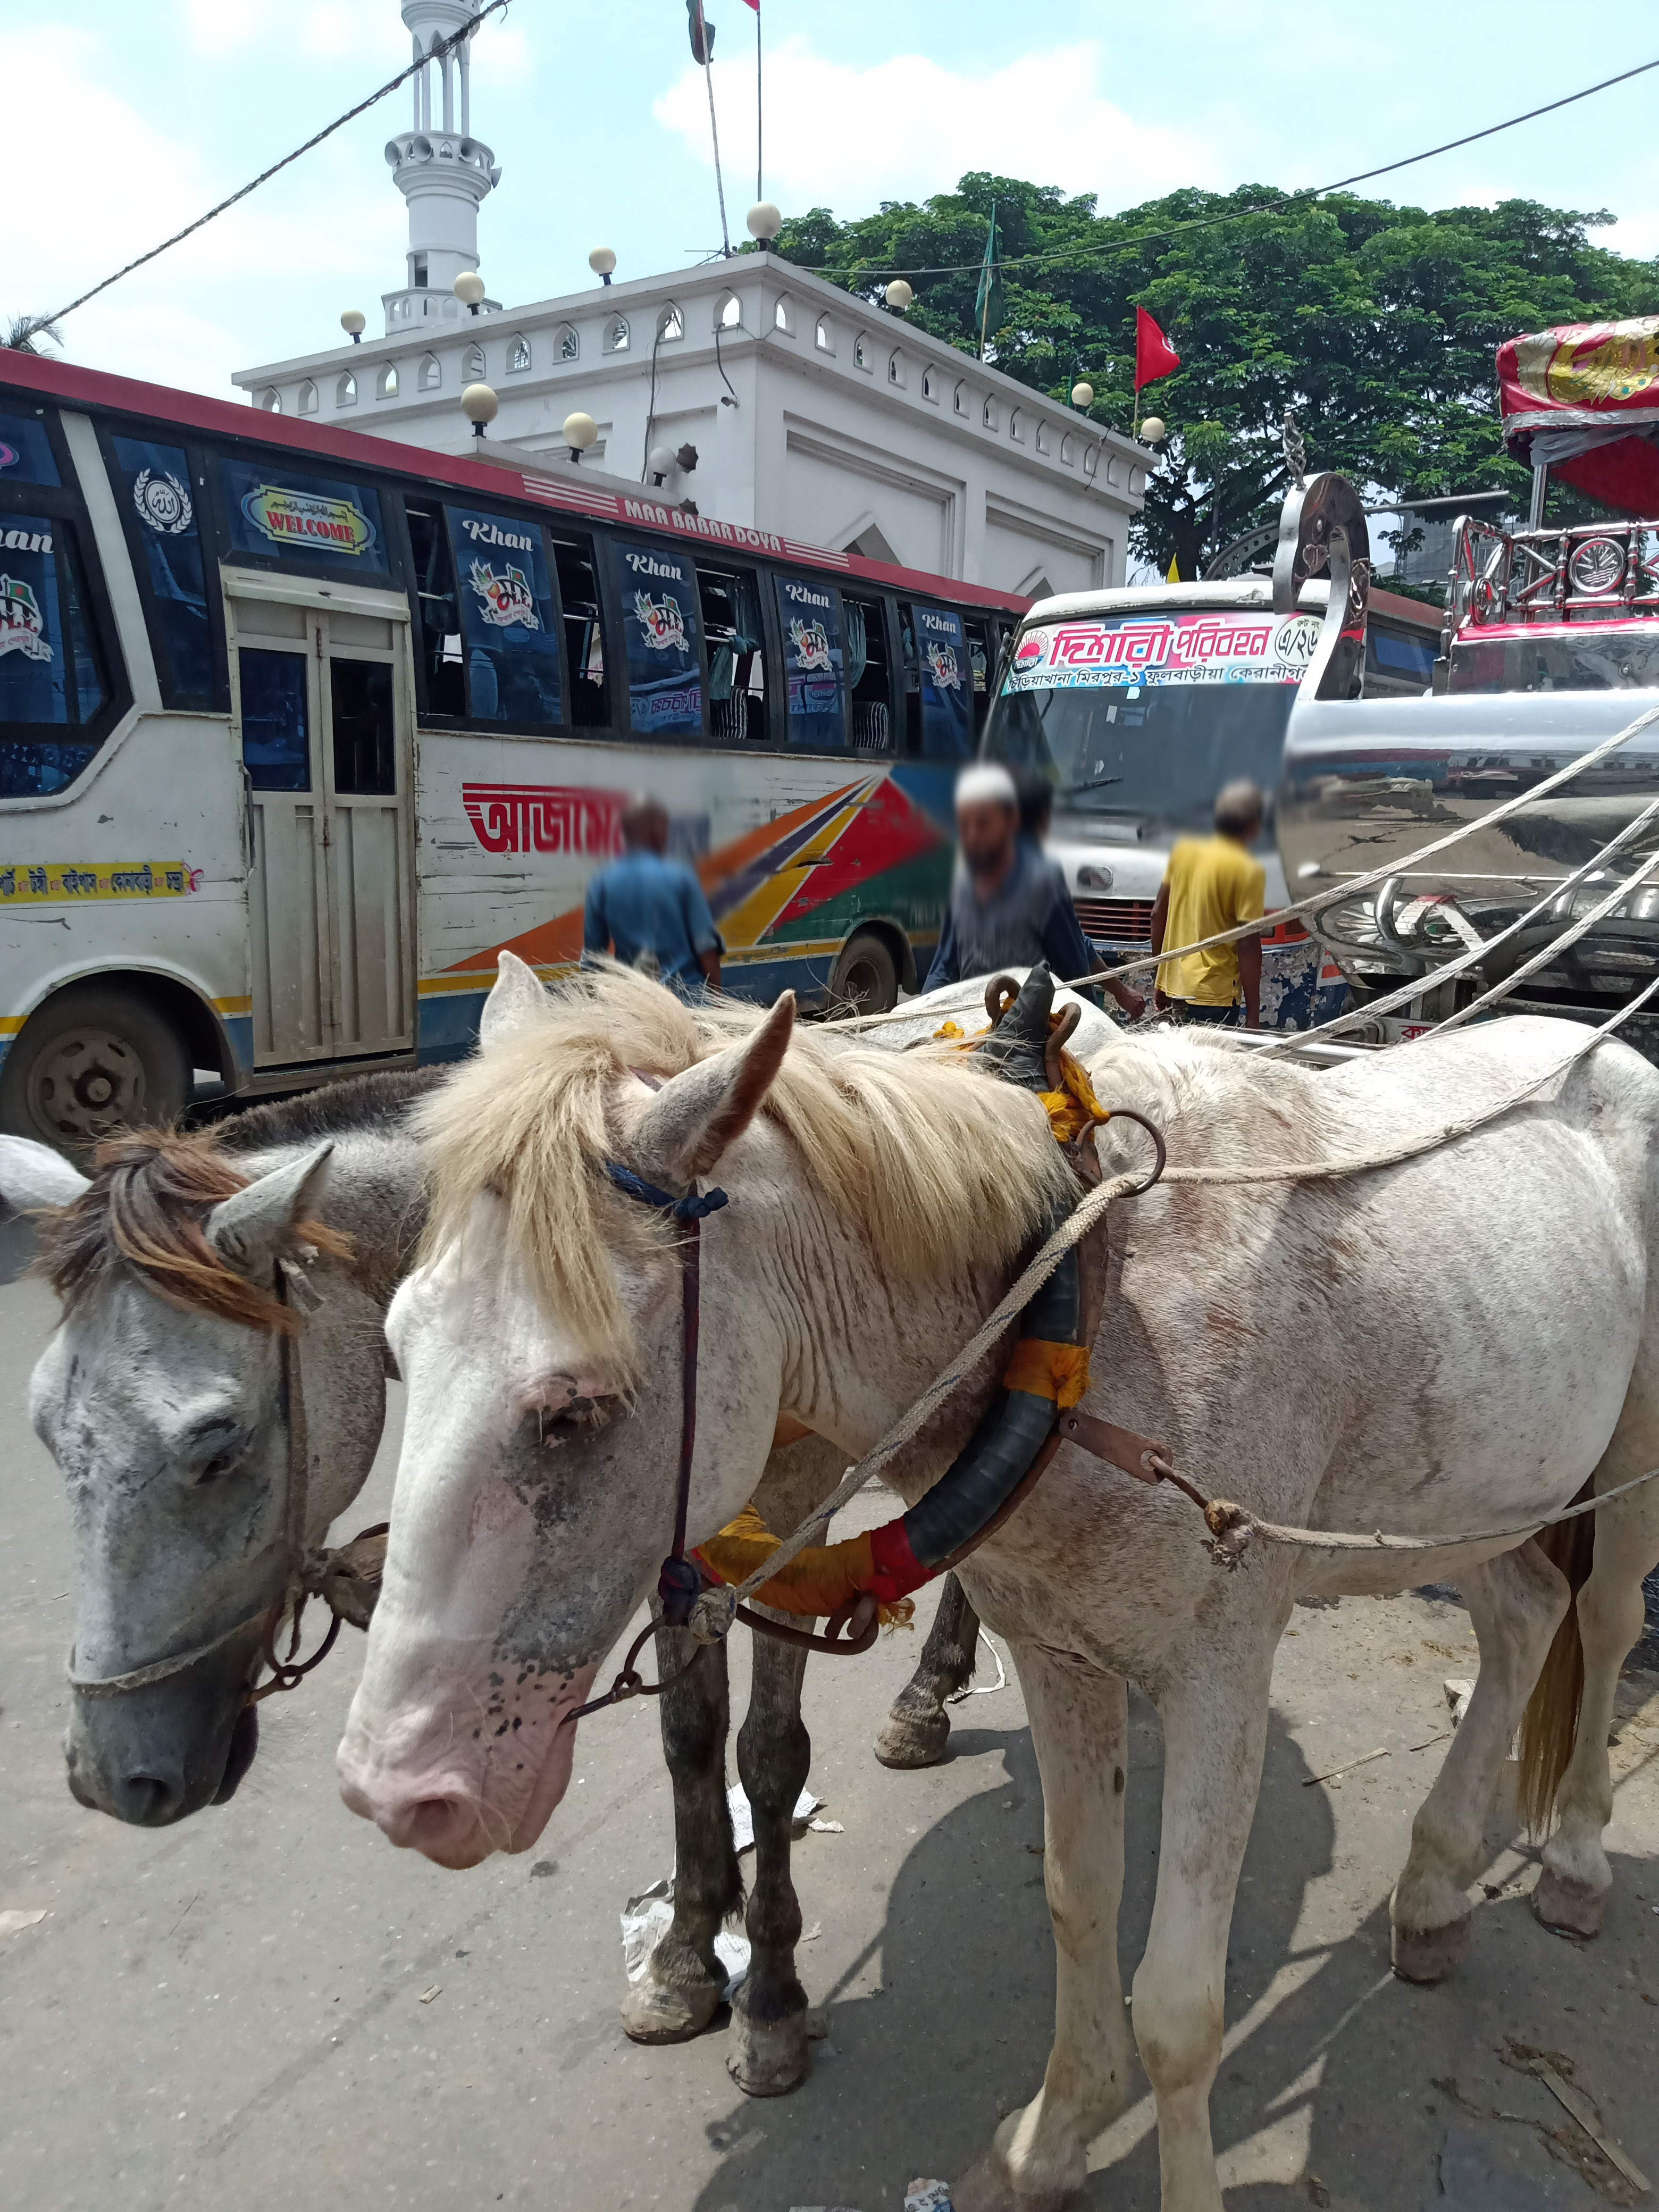bus: (3, 345, 1117, 1172), (946, 573, 1446, 995)
horsecart: (1236, 300, 1659, 1109)
